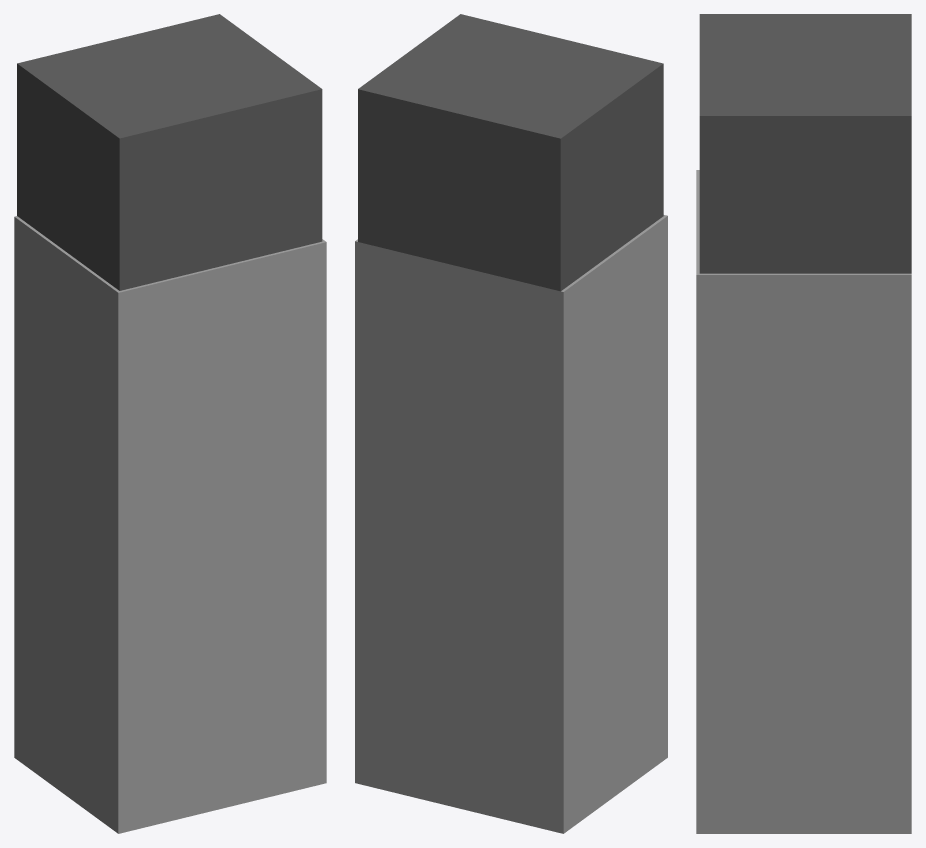
Rendered from kitchen_extractor_flue.glb.
The picture shows the model from 3 angles, left to right: view 1: azimuth 30°, elevation 25°; view 2: azimuth 150°, elevation 25°; view 3: azimuth 270°, elevation 25°; orthographic projection. The views are drawn at different scales.
Parts seen in each view (by area): view 1: Geom3D (×2); view 2: Geom3D (×2); view 3: Geom3D (×2).
Part boxes in pixels (<box>): Geom3D (×2): <box>14,14,326,833</box>; Geom3D (×2): <box>355,14,667,833</box>; Geom3D (×2): <box>696,14,911,833</box>.
Bounding box in the file's own units: 0.3 × 0.955 × 0.26.
Materials: 2 (1 with a texture image).
